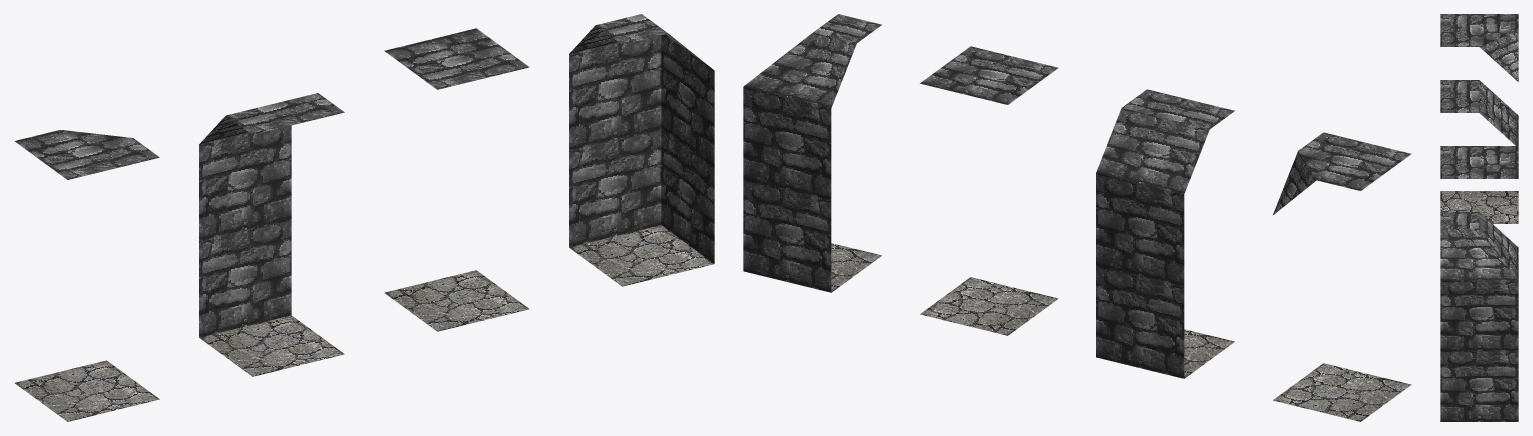
The model's file is tileset2.glb.
3 renders of one model, left to right at view 1: azimuth 30°, elevation 25°; view 2: azimuth 150°, elevation 25°; view 3: azimuth 270°, elevation 25°, orthographic. The views are drawn at different scales.
Parts seen in each view (by area): view 1: corner_in.col, wall.col, floor.col, corner_out.col; view 2: wall.col, corner_in.col, corner_out.col, floor.col; view 3: corner_in.col, corner_out.col, wall.col, floor.col.
Part boxes in pixels (x1=…): corner_in.col: x1=569, y1=14, x2=714, y2=286; wall.col: x1=199, y1=93, x2=344, y2=376; floor.col: x1=384, y1=28, x2=529, y2=331; corner_out.col: x1=14, y1=130, x2=159, y2=421; wall.col: x1=1096, y1=89, x2=1234, y2=378; corner_in.col: x1=743, y1=14, x2=881, y2=292; corner_out.col: x1=1273, y1=132, x2=1411, y2=421; floor.col: x1=920, y1=46, x2=1058, y2=335; corner_in.col: x1=1440, y1=212, x2=1518, y2=421; corner_out.col: x1=1440, y1=14, x2=1518, y2=223; wall.col: x1=1440, y1=80, x2=1518, y2=145; floor.col: x1=1440, y1=146, x2=1518, y2=178.
Size of the model in its own units: 7 by 2.5 by 1.
1 material, 1 textured.
